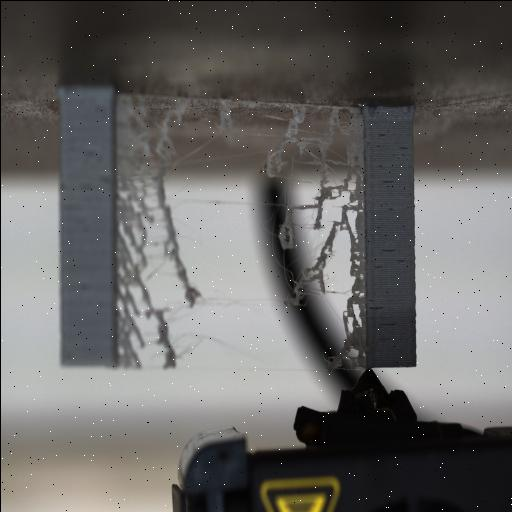stringing: (260, 107, 376, 369), (106, 96, 208, 370)
